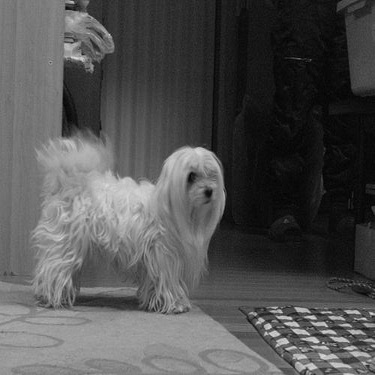dog: (16, 119, 232, 319)
